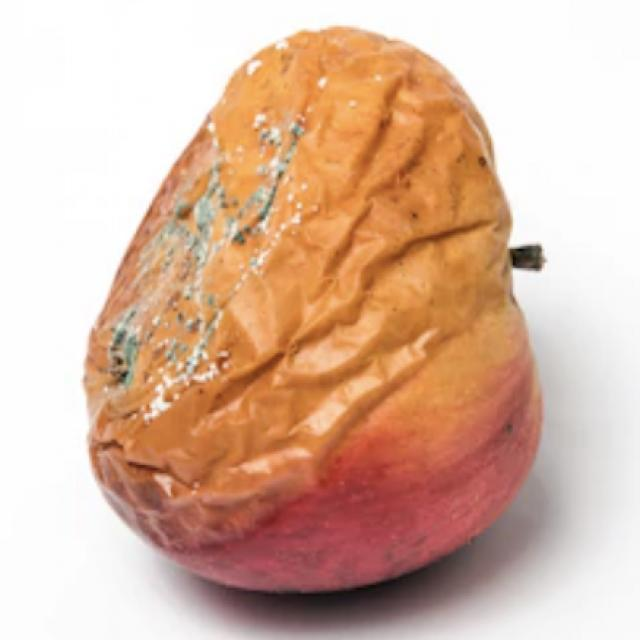Rotten: (77, 25, 548, 600)
